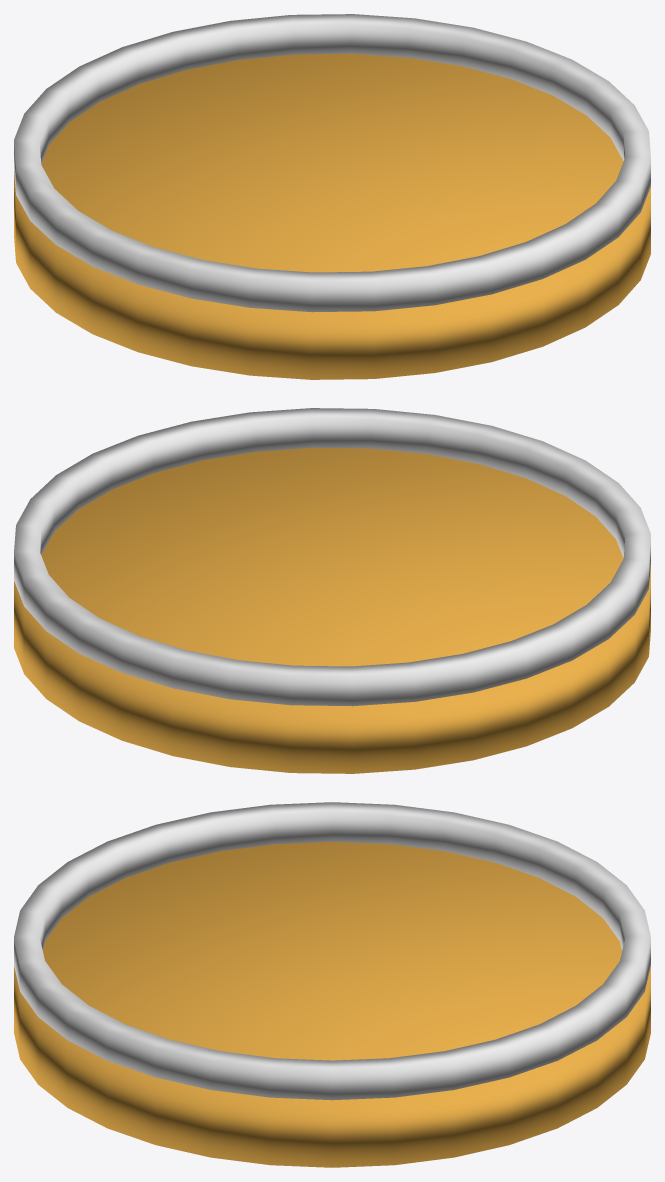
The model's file is ball_receive_2d.fbx.
The picture shows the model from 3 angles, top to bottom: view 1: azimuth 30°, elevation 25°; view 2: azimuth 150°, elevation 25°; view 3: azimuth 270°, elevation 25°; orthographic projection.
Visible parts, largest first — view 1: base, lights_on; view 2: base, lights_on; view 3: base, lights_on.
Part boxes in pixels (left/top/right/bottom): base: left=14, top=53, right=650, bottom=379; lights_on: left=14, top=14, right=650, bottom=312; base: left=14, top=447, right=650, bottom=773; lights_on: left=14, top=408, right=650, bottom=706; base: left=14, top=841, right=650, bottom=1167; lights_on: left=14, top=802, right=650, bottom=1100.
Bounding box in the file's own units: 200 × 33.42 × 200.
